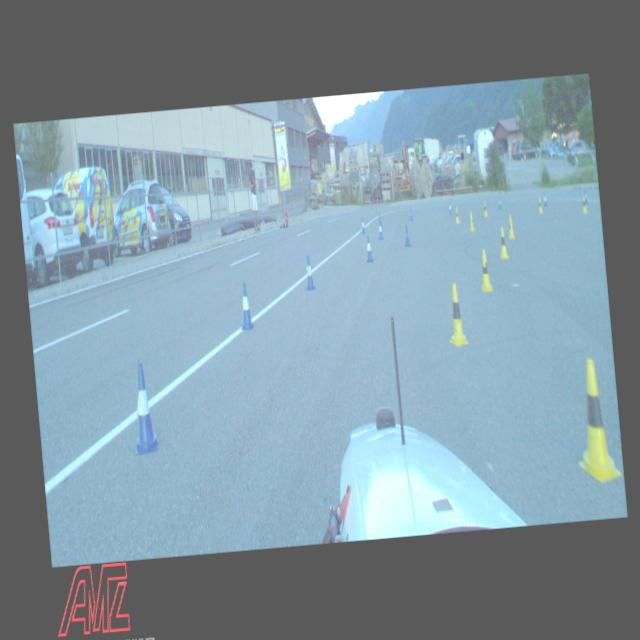blue_cone: (128, 362, 160, 453), (237, 282, 255, 331), (304, 254, 315, 291), (364, 235, 373, 262), (404, 224, 411, 246), (377, 218, 383, 240), (360, 216, 366, 234), (542, 192, 548, 205), (408, 206, 413, 220), (497, 197, 502, 210), (447, 202, 452, 214), (378, 212, 382, 227), (584, 188, 586, 204)
yellow_cone: (568, 357, 622, 484), (444, 282, 469, 347), (478, 248, 493, 292), (498, 226, 508, 258), (507, 216, 515, 238), (580, 195, 588, 213), (468, 211, 475, 230), (454, 206, 460, 222), (482, 201, 488, 216), (537, 197, 542, 213)
